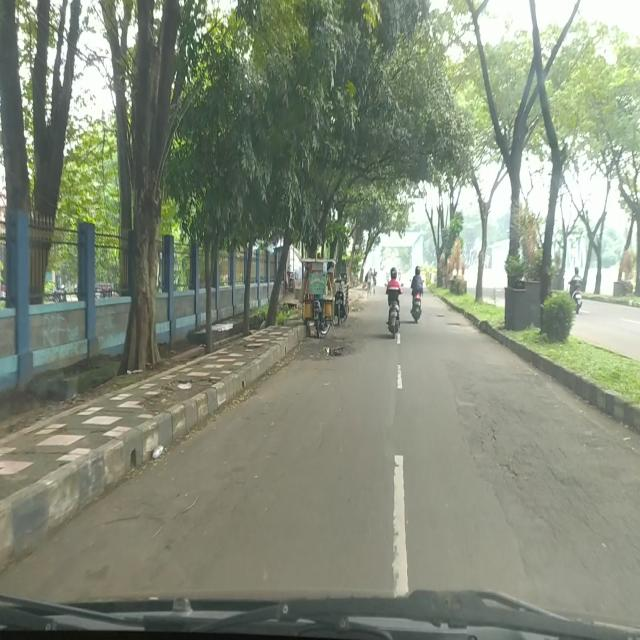Drain Hole: (468, 388, 640, 558)
